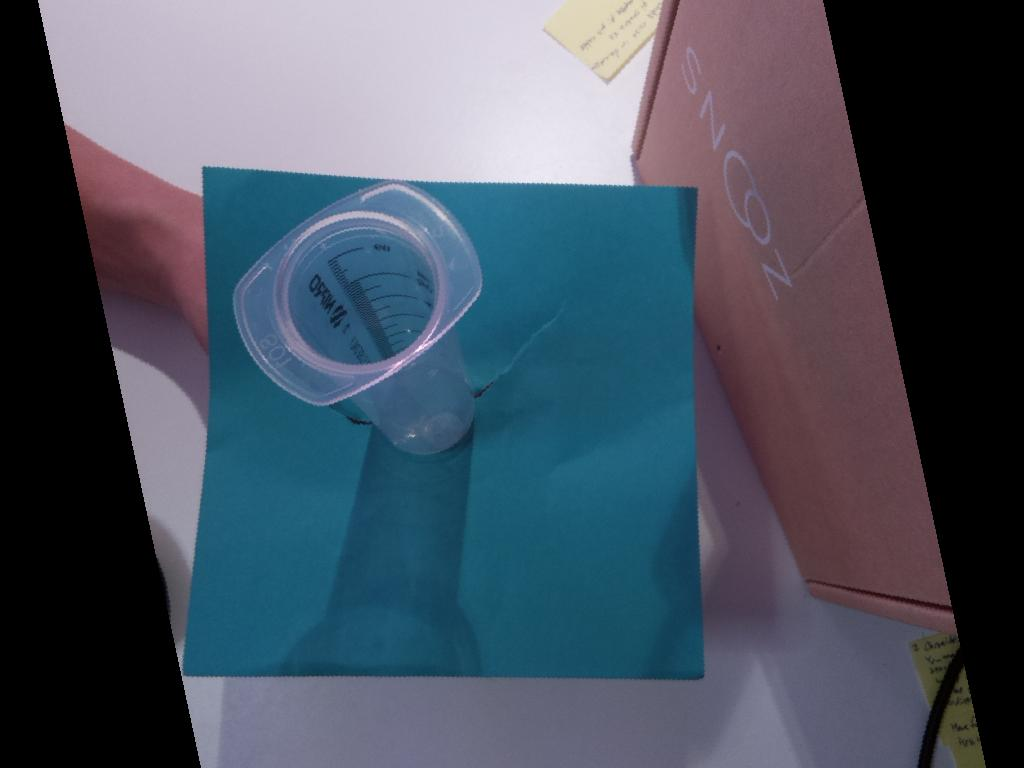clean: (232, 182, 487, 408)
